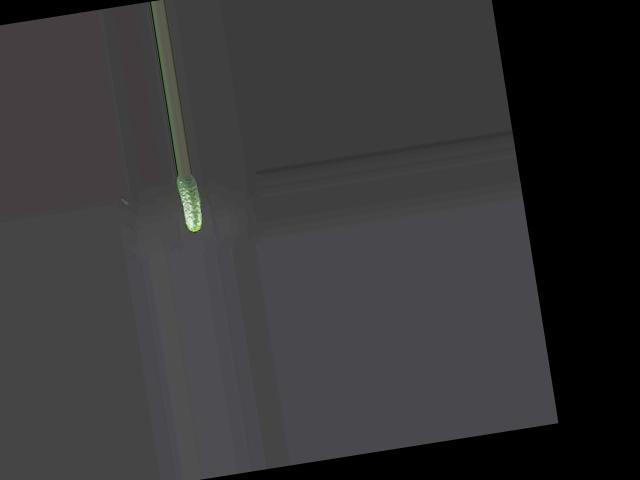cucumber: (174, 171, 204, 233)
